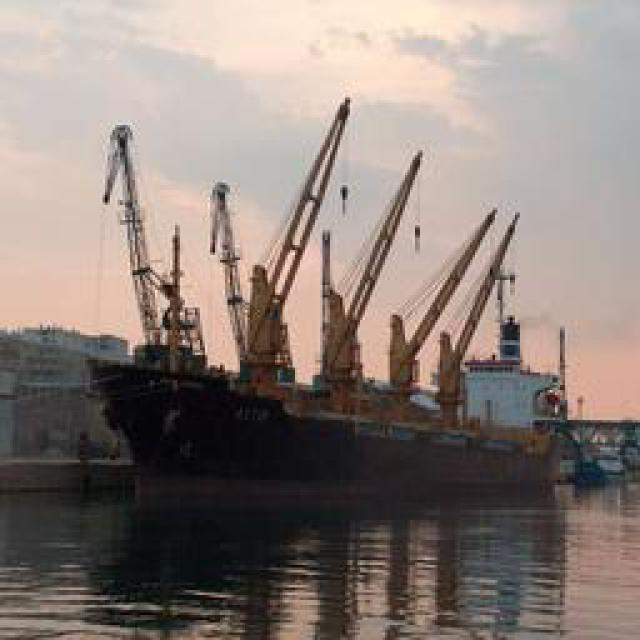Ship: (65, 91, 580, 516)
